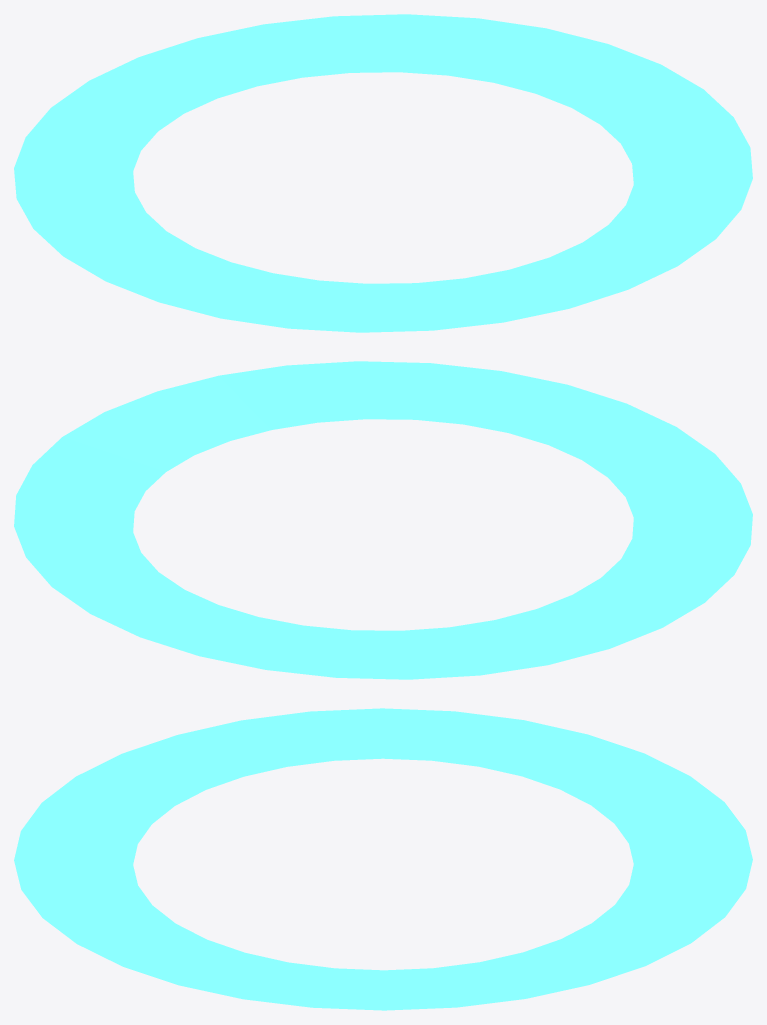
File: circleHighlight.gltf
The picture shows the model from 3 angles, top to bottom: view 1: azimuth 30°, elevation 25°; view 2: azimuth 150°, elevation 25°; view 3: azimuth 270°, elevation 25°; orthographic projection.
Visible parts, largest first — view 1: Circle.017; view 2: Circle.017; view 3: Circle.017.
Part boxes in pixels (bbox=[...]): Circle.017: bbox=[14, 14, 752, 332]; Circle.017: bbox=[14, 361, 752, 679]; Circle.017: bbox=[14, 708, 752, 1010].
Bounding box in the file's own units: 0.054 × 0.000815 × 0.054.
